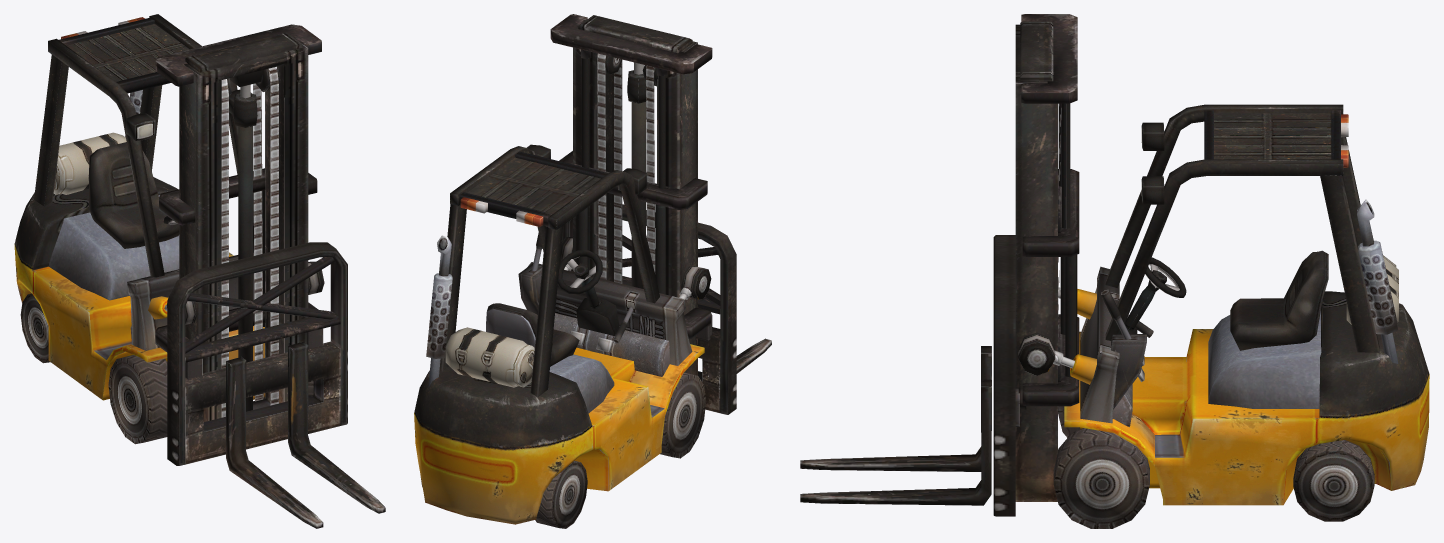
Rendered from ForkLift.FBX.
3 renders of one model, left to right at view 1: azimuth 30°, elevation 25°; view 2: azimuth 150°, elevation 25°; view 3: azimuth 270°, elevation 25°, orthographic. The views are drawn at different scales.
Visible parts, largest first — view 1: ForkLift; view 2: ForkLift; view 3: ForkLift.
Part boxes in pixels (x1,y1,x2,y2): ForkLift: (14,14,385,528); ForkLift: (414,14,771,528); ForkLift: (800,14,1429,528).
Bounding box in the file's own units: 155 × 341 × 445.
